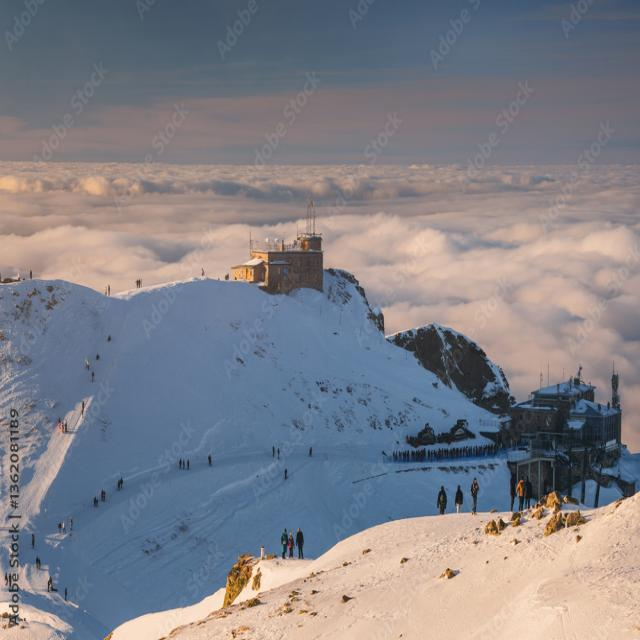Kasprowy Wierch: (188, 158, 378, 371)
